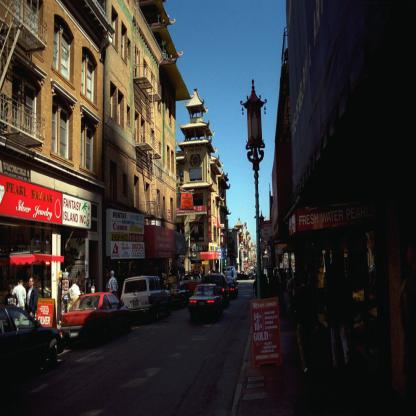Car: (0, 299, 64, 385), (60, 290, 132, 346), (120, 274, 168, 316), (181, 280, 227, 323), (166, 282, 189, 302), (202, 274, 225, 294), (185, 269, 200, 292), (225, 278, 239, 297), (226, 267, 236, 279), (249, 268, 255, 278)
